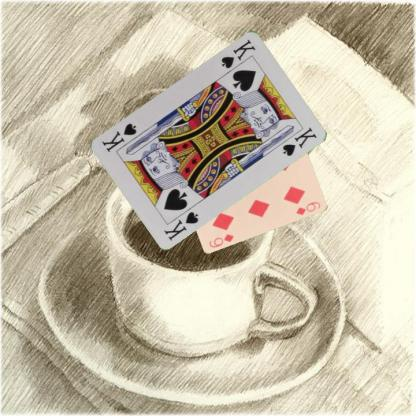6d: (206, 231, 235, 249)
Ks: (161, 208, 200, 242), (219, 36, 257, 70)
